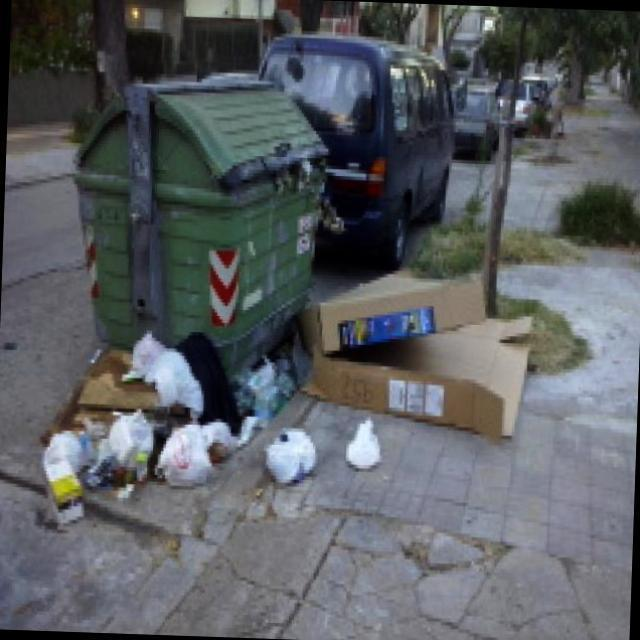garbage: (297, 266, 538, 444), (29, 319, 232, 518), (232, 347, 301, 435), (344, 411, 395, 481), (262, 420, 316, 480)
